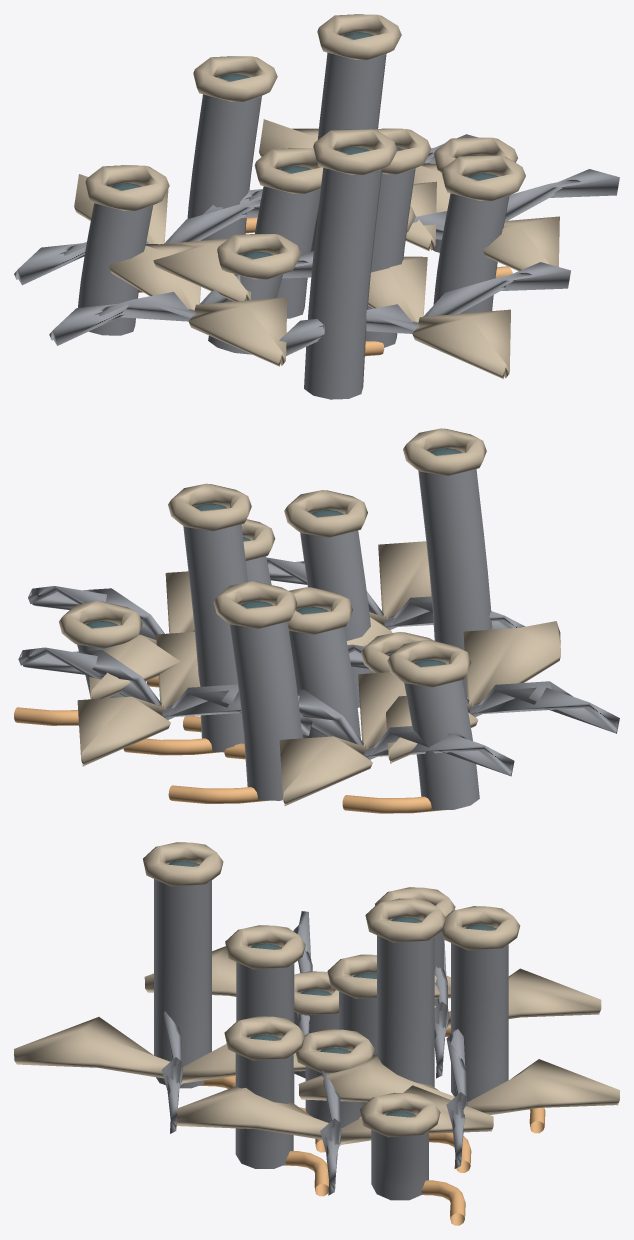
Rendered from bio_thermal_colony_05_far.glb.
The picture shows the model from 3 angles, top to bottom: view 1: azimuth 30°, elevation 25°; view 2: azimuth 150°, elevation 25°; view 3: azimuth 270°, elevation 25°; orthographic projection. The views are drawn at different scales.
Parts seen in each view (by area): view 1: Chimney biofilm.007, Low buttress leaf.017, Low buttress leaf.009, Chimney biofilm.006, Chimney biofilm.009, Chimney biofilm.005, Low buttress leaf.008, Chimney biofilm.003, Low buttress leaf.005, Low buttress leaf.001, Chimney biofilm.001, Low buttress leaf.016 (+14 smaller); view 2: Chimney biofilm.007, Chimney biofilm.006, Chimney biofilm.003, Low buttress leaf.005, Low buttress leaf.017, Low buttress leaf.013, Chimney biofilm.009, Low buttress leaf.012, Chimney biofilm.002, Chimney biofilm.001, Low buttress leaf.004, Low buttress leaf.001 (+18 smaller); view 3: Chimney biofilm.007, Chimney biofilm.003, Low buttress leaf.013, Chimney biofilm.006, Low buttress leaf.009, Low buttress leaf.001, Chimney biofilm.005, Chimney biofilm.008, Low buttress leaf.005, Chimney biofilm.002, Open vent rim.005, Open vent rim.003 (+20 smaller).
Boxes of the visible parts, x1,y1,x2,y2 form: Chimney biofilm.007: [304, 168, 382, 399]; Low buttress leaf.017: [109, 244, 287, 366]; Low buttress leaf.009: [368, 256, 510, 378]; Chimney biofilm.006: [187, 94, 261, 240]; Chimney biofilm.009: [78, 203, 152, 335]; Chimney biofilm.005: [433, 193, 509, 313]; Low buttress leaf.008: [279, 262, 570, 355]; Chimney biofilm.003: [311, 52, 386, 251]; Low buttress leaf.005: [74, 174, 250, 301]; Low buttress leaf.001: [413, 163, 559, 270]; Chimney biofilm.001: [255, 186, 320, 318]; Low buttress leaf.016: [49, 251, 313, 345]; Chimney biofilm.007: [418, 469, 492, 696]; Chimney biofilm.006: [229, 604, 302, 800]; Chimney biofilm.003: [183, 524, 247, 752]; Low buttress leaf.005: [279, 672, 406, 806]; Low buttress leaf.017: [386, 621, 560, 763]; Low buttress leaf.013: [77, 631, 200, 766]; Chimney biofilm.009: [404, 663, 479, 810]; Low buttress leaf.012: [18, 647, 312, 736]; Chimney biofilm.002: [300, 510, 374, 707]; Chimney biofilm.001: [289, 627, 360, 739]; Low buttress leaf.004: [297, 689, 514, 776]; Low buttress leaf.001: [87, 571, 194, 699]; Chimney biofilm.007: [154, 864, 211, 1088]; Chimney biofilm.003: [377, 920, 434, 1086]; Low buttress leaf.013: [298, 1054, 619, 1114]; Chimney biofilm.006: [451, 928, 508, 1101]; Low buttress leaf.009: [14, 1017, 305, 1084]; Low buttress leaf.001: [177, 1085, 493, 1145]; Chimney biofilm.005: [235, 1038, 293, 1168]; Chimney biofilm.008: [371, 1130, 428, 1200]; Low buttress leaf.005: [331, 968, 601, 1029]; Chimney biofilm.002: [236, 947, 294, 1103]; Open vent rim.005: [224, 1016, 304, 1060]; Open vent rim.003: [365, 898, 445, 942].
Bounding box in the file's own units: 2.22 × 0.9103 × 2.09.
